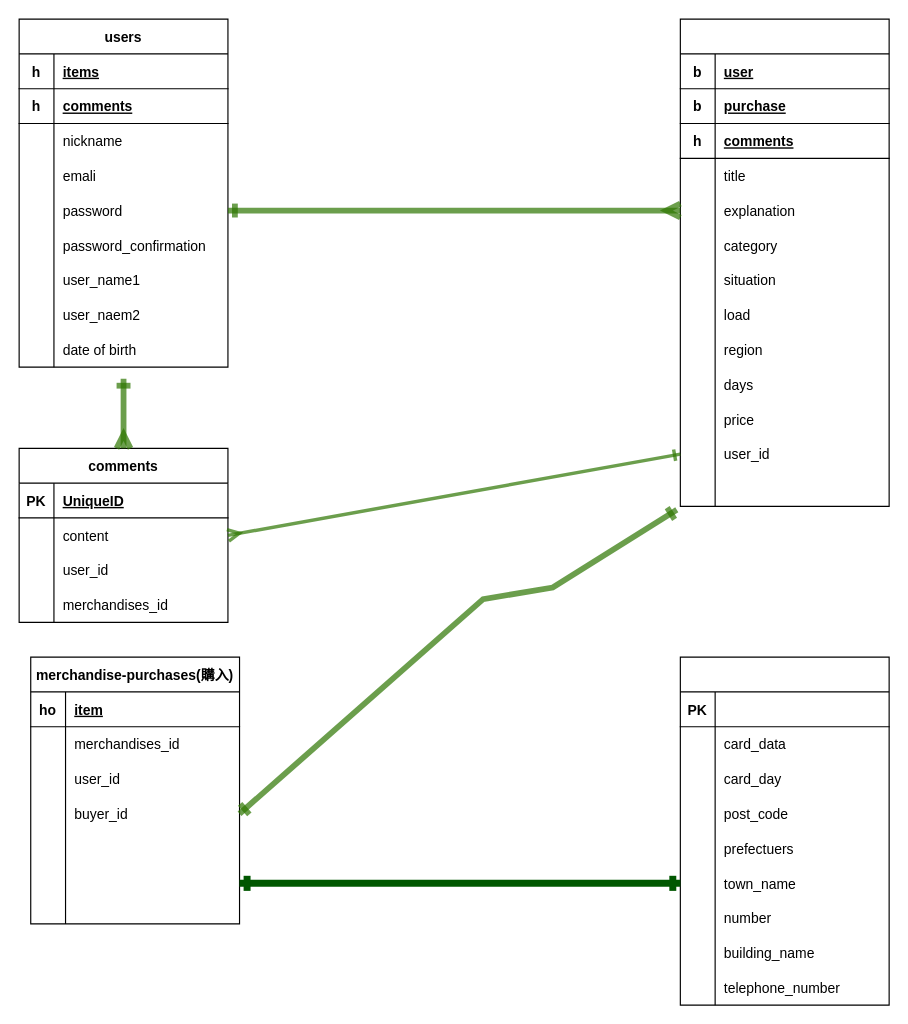
This 908x1024 diagram has some shape labels left out. Each missing label, with the box of its shape:
buyers(購入者): (679, 656, 889, 1005)
merchandises(商品情報): (679, 18, 889, 506)
